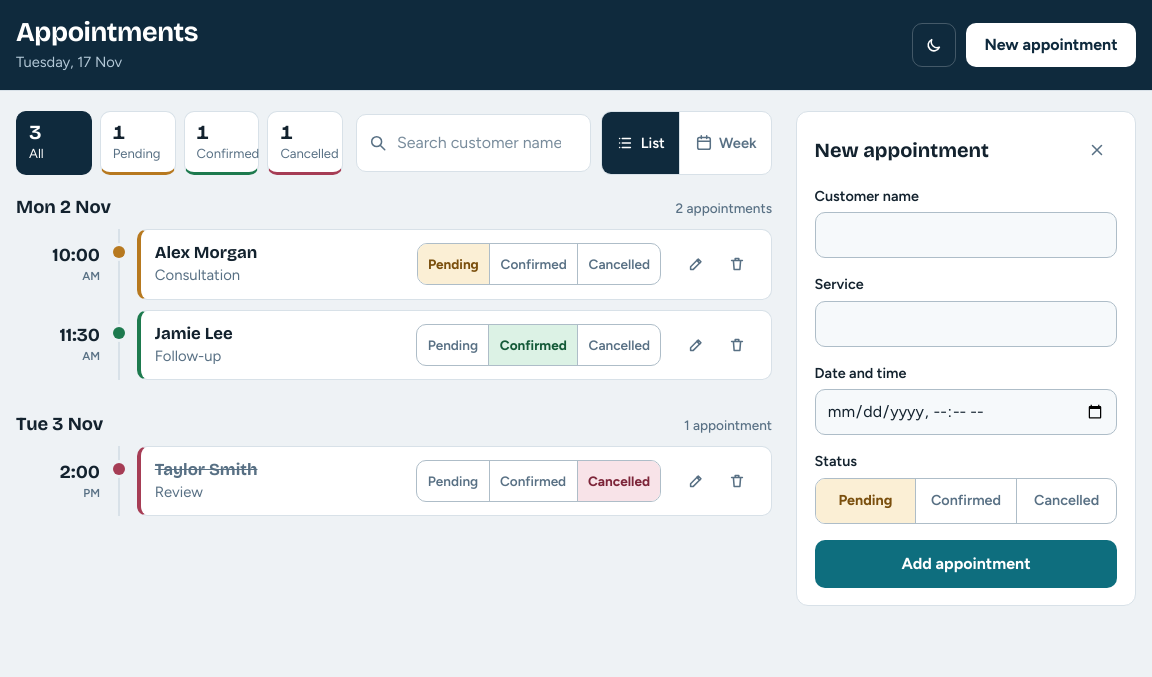
Test case: Appointment Manager UI › shows clear errors when required fields are empty
Expected: the text "Alex Morgan" is shown, [155,242,257,263]
Click the button "Add appointment". click: (966, 564)
box: [815,540,1117,588]
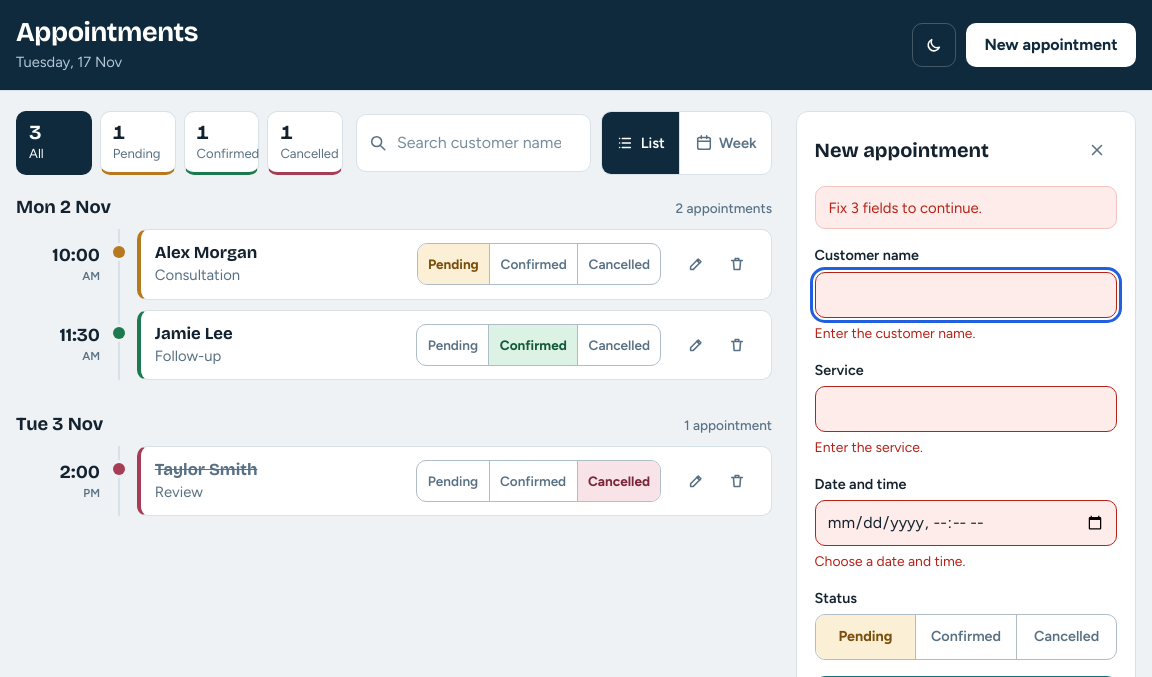
Now the text "Enter the customer name." is shown, box [815,325,975,341]
Now the text "Enter the service." is shown, box [815,439,923,455]
Now the text "Choose a date and time." is shown, box [815,553,965,569]
